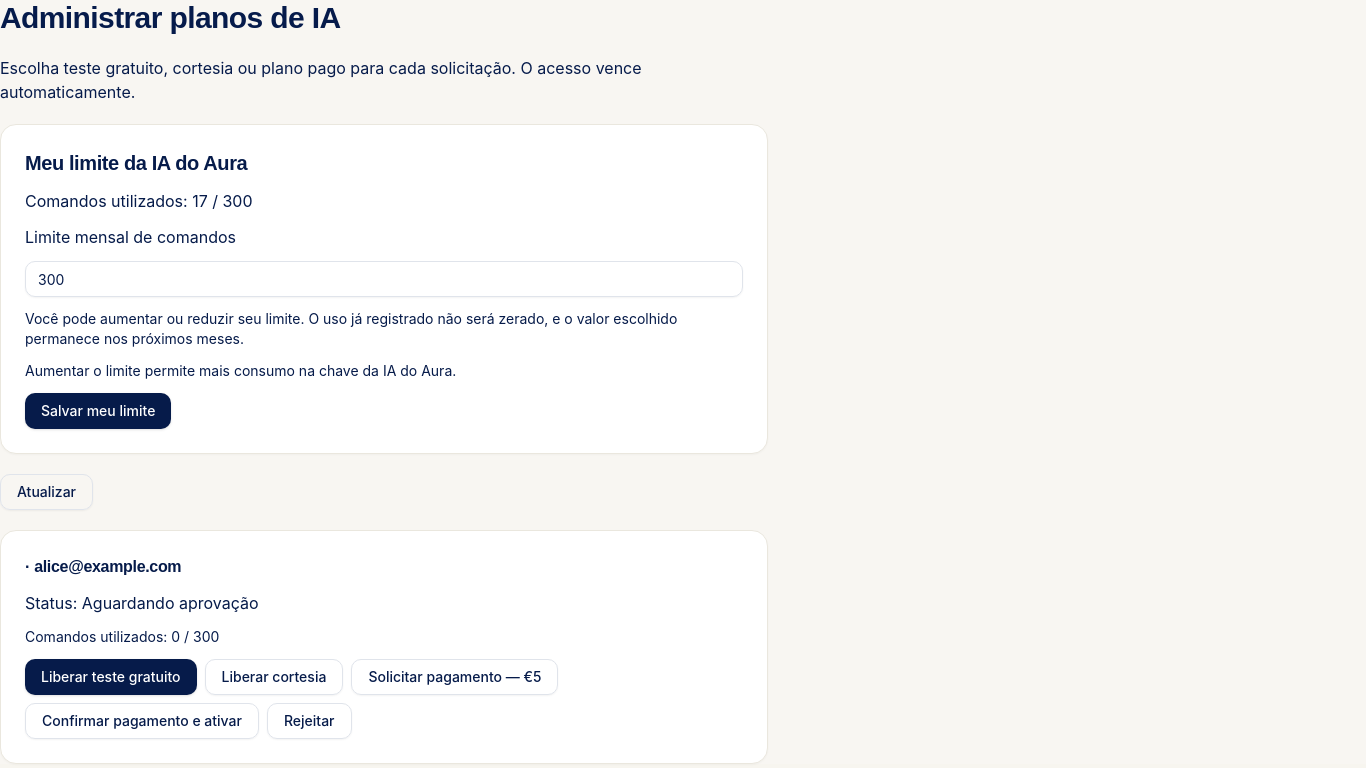
paid access cannot be approved without the payment checkbox
This screenshot has width=1366, height=768.
Later steps or results of the test are not shown.
Click the button "Confirmar pagamento e ativar" at (142, 721), box x1=25 y1=703 x2=259 y2=739
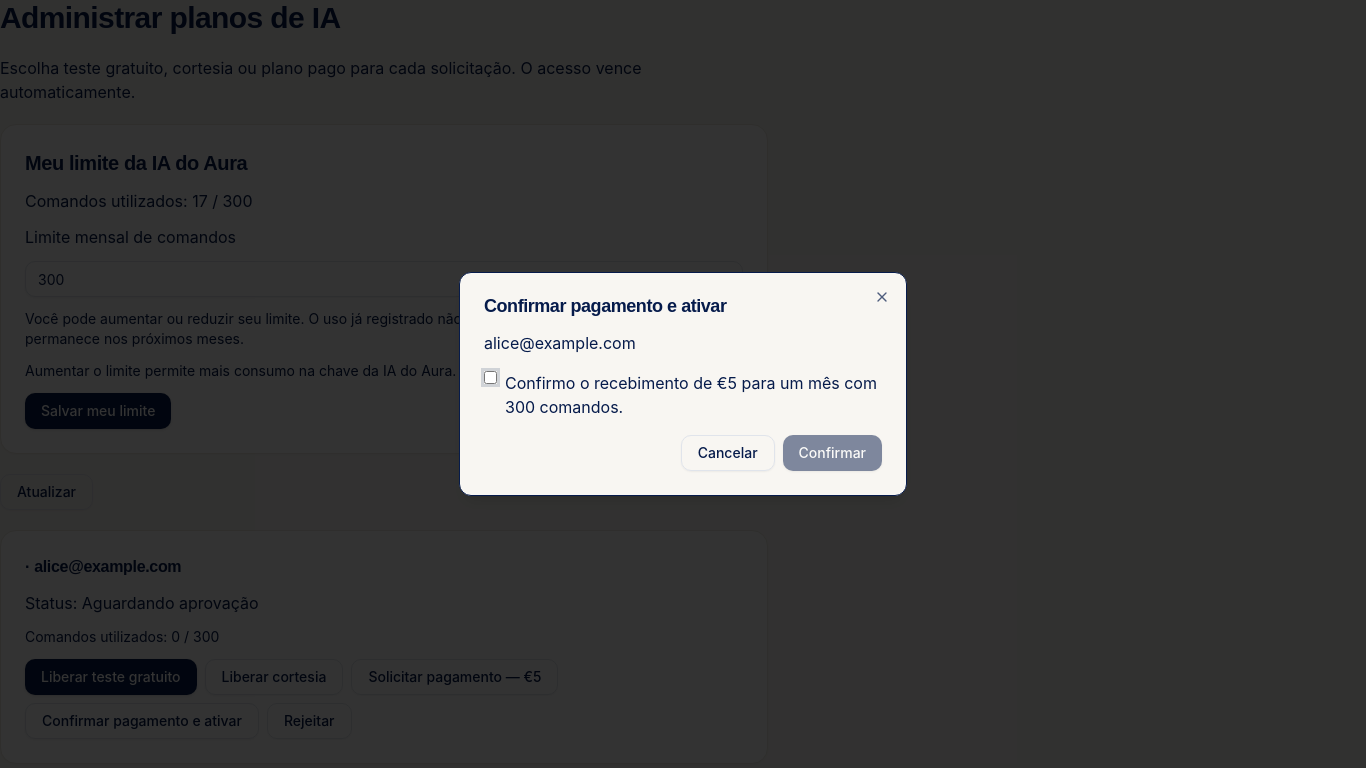
Now the button "Confirmar" is disabled, box x1=783 y1=435 x2=882 y2=471
Click the checkbox labelled "Confirmo o recebimento de €5 para um mês com 300 comandos." at (490, 378), box x1=484 y1=371 x2=497 y2=384
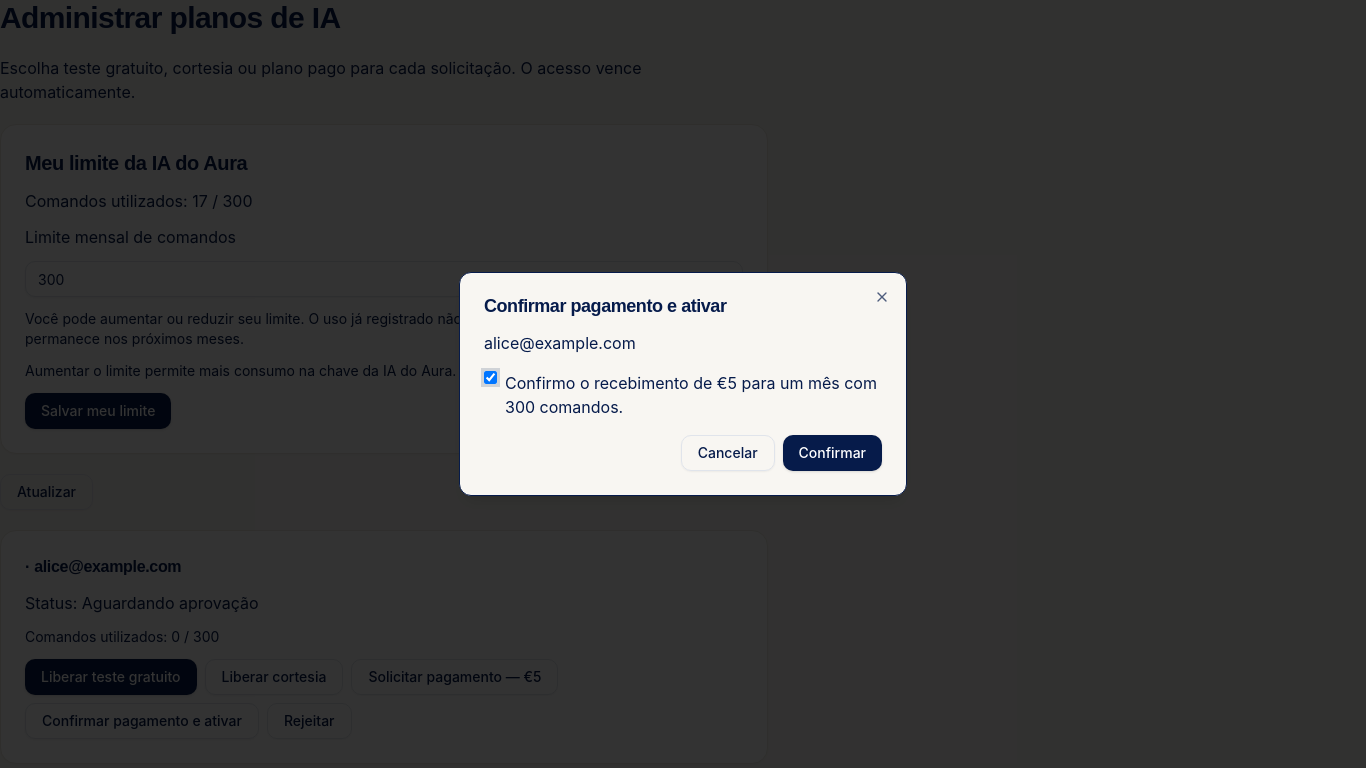
Now the button "Confirmar" is enabled, box x1=783 y1=435 x2=882 y2=471
